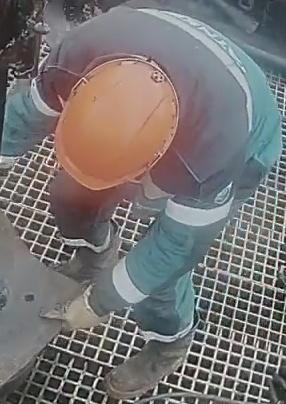gloves: (39, 275, 111, 333)
helmet: (52, 56, 182, 192)
vest: (39, 4, 283, 197)
